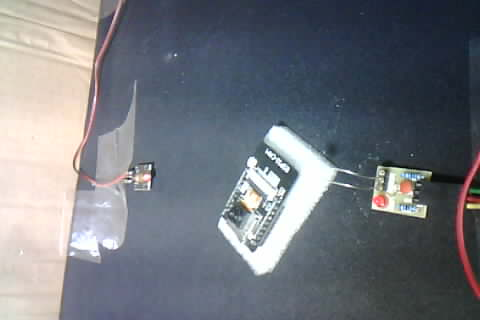esp32: (221, 123, 310, 261)
